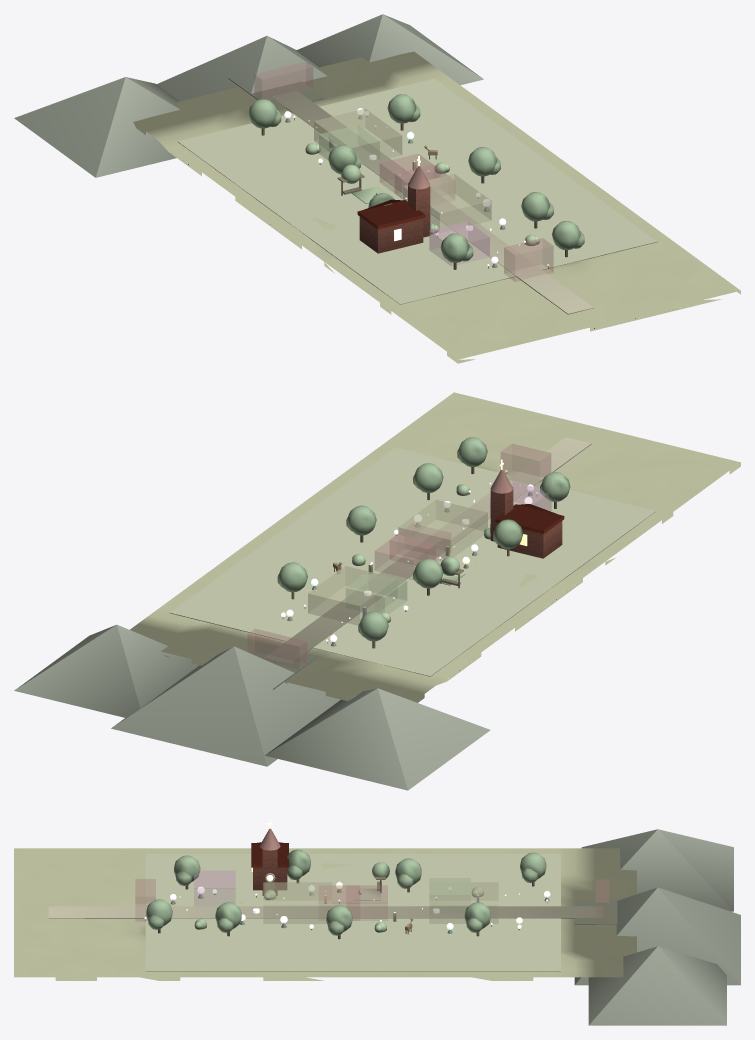
The model's file is enchanted_ground.glb.
3 views of the same model, one above another, from view 1: azimuth 30°, elevation 25°; view 2: azimuth 150°, elevation 25°; view 3: azimuth 270°, elevation 25° (orthographic). The views are drawn at different scales.
Parts seen in each view (by area): view 1: ENV_Enchanted_SoftField, ENV_Enchanted_Ground, VIS_PROP_Ridge_DreamWood (×3), ENV_Enchanted_MainPath, VIS_PROP_Chapel (×3), COL_SleepZone_02, COL_SleepZone_01, TRIGGER_EnterEnchantedGround, TRIGGER_Exit_RiverOfDeath, COL_SoftGrassRestZone, TRIGGER_TestimonyConversation, COL_DreamFlowerZone (+9 smaller); view 2: ENV_Enchanted_SoftField, VIS_PROP_Ridge_DreamWood (×3), ENV_Enchanted_Ground, ENV_Enchanted_MainPath, COL_SleepZone_02, COL_SleepZone_01, VIS_PROP_Chapel (×3), COL_SoftGrassRestZone, TRIGGER_HopefulWake, TRIGGER_TestimonyConversation, TRIGGER_Exit_RiverOfDeath, TRIGGER_EnterEnchantedGround (+10 smaller); view 3: ENV_Enchanted_SoftField, ENV_Enchanted_Ground, VIS_PROP_Ridge_DreamWood (×3), ENV_Enchanted_MainPath, COL_SleepZone_01, COL_SleepZone_02, VIS_PROP_Chapel (×3), COL_SoftGrassRestZone, COL_DreamFlowerZone, TRIGGER_TestimonyConversation, TRIGGER_HopefulWake, ENV_Enchanted_ExitSlope (+10 smaller).
Boxes of the visible parts, <box> form: ENV_Enchanted_SoftField: <box>177,78,657,304</box>; ENV_Enchanted_Ground: <box>133,51,740,363</box>; VIS_PROP_Ridge_DreamWood (×3): <box>14,14,483,177</box>; ENV_Enchanted_MainPath: <box>271,90,593,314</box>; VIS_PROP_Chapel (×3): <box>357,183,430,253</box>; COL_SleepZone_02: <box>314,108,402,164</box>; COL_SleepZone_01: <box>403,174,491,232</box>; TRIGGER_EnterEnchantedGround: <box>504,238,553,281</box>; TRIGGER_Exit_RiverOfDeath: <box>254,62,312,99</box>; COL_SoftGrassRestZone: <box>319,125,379,164</box>; TRIGGER_TestimonyConversation: <box>380,154,440,198</box>; COL_DreamFlowerZone: <box>429,221,489,266</box>; ENV_Enchanted_SoftField: <box>170,447,656,676</box>; VIS_PROP_Ridge_DreamWood (×3): <box>14,624,490,790</box>; ENV_Enchanted_Ground: <box>130,392,740,702</box>; ENV_Enchanted_MainPath: <box>265,437,591,663</box>; COL_SleepZone_02: <box>308,566,397,625</box>; COL_SleepZone_01: <box>398,500,487,557</box>; VIS_PROP_Chapel (×3): <box>490,488,564,558</box>; COL_SoftGrassRestZone: <box>346,572,407,613</box>; TRIGGER_HopefulWake: <box>390,524,450,565</box>; TRIGGER_TestimonyConversation: <box>375,534,435,579</box>; TRIGGER_Exit_RiverOfDeath: <box>248,629,306,669</box>; TRIGGER_EnterEnchantedGround: <box>501,444,550,487</box>; ENV_Enchanted_SoftField: <box>145,854,560,971</box>; ENV_Enchanted_Ground: <box>14,848,636,980</box>; VIS_PROP_Ridge_DreamWood (×3): <box>574,829,740,1025</box>; ENV_Enchanted_MainPath: <box>48,906,602,918</box>; COL_SleepZone_01: <box>263,882,332,923</box>; COL_SleepZone_02: <box>429,882,498,923</box>; VIS_PROP_Chapel (×3): <box>251,843,288,895</box>; COL_SoftGrassRestZone: <box>429,878,470,913</box>; COL_DreamFlowerZone: <box>194,870,235,905</box>; TRIGGER_TestimonyConversation: <box>346,885,387,920</box>; TRIGGER_HopefulWake: <box>319,885,359,920</box>; ENV_Enchanted_ExitSlope: <box>574,900,617,924</box>.
Bounding box in the file's own units: 61 × 16.75 × 105.
59 materials, 2 textured.
